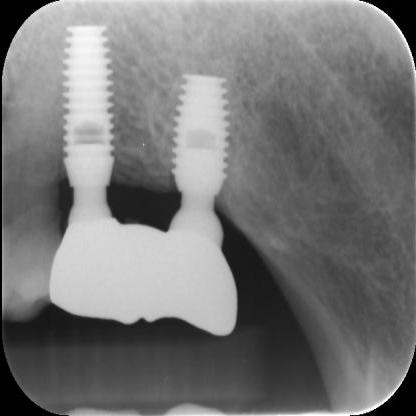Bicon: (164, 68, 230, 230), (58, 18, 108, 226)
